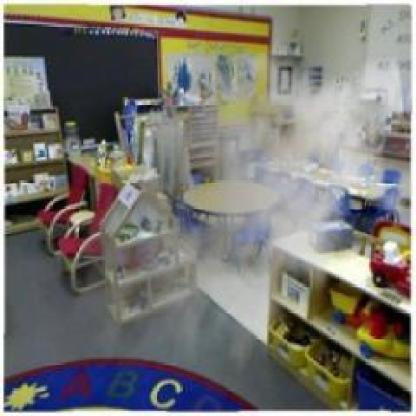Smoke: (67, 29, 415, 397)
